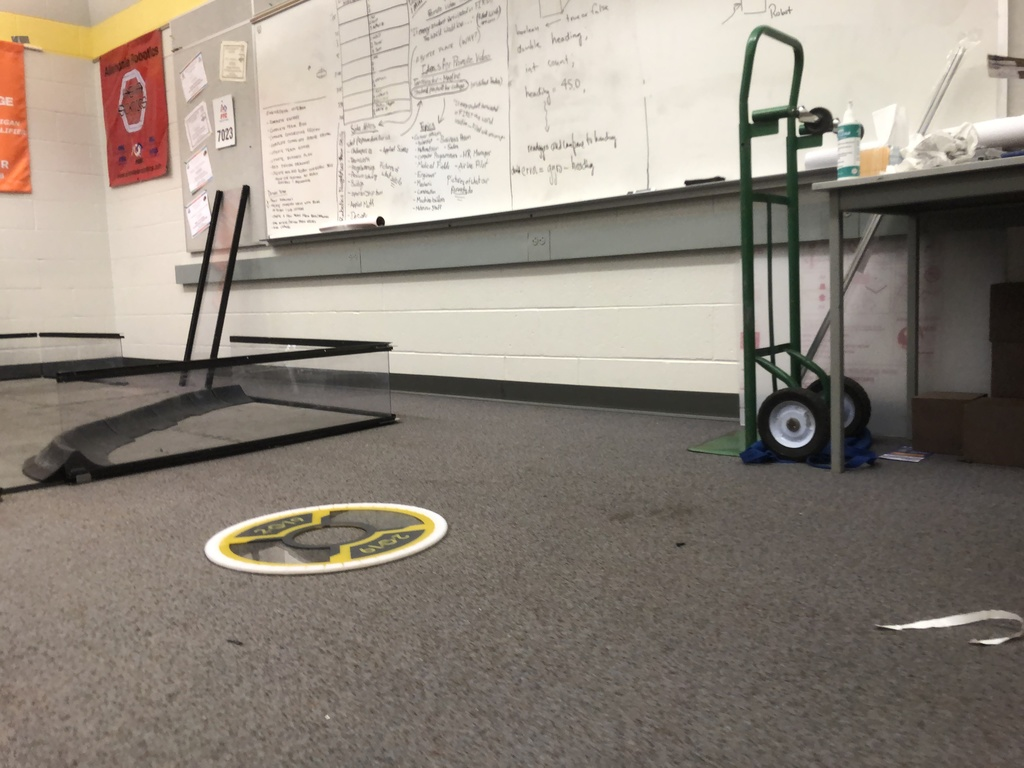hatch_panel: (197, 483, 471, 591)
